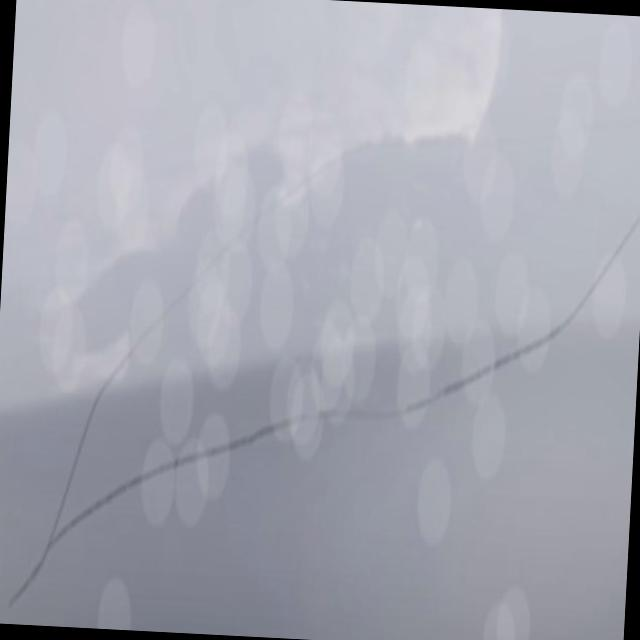crack: (167, 79, 555, 378), (121, 316, 592, 537)
